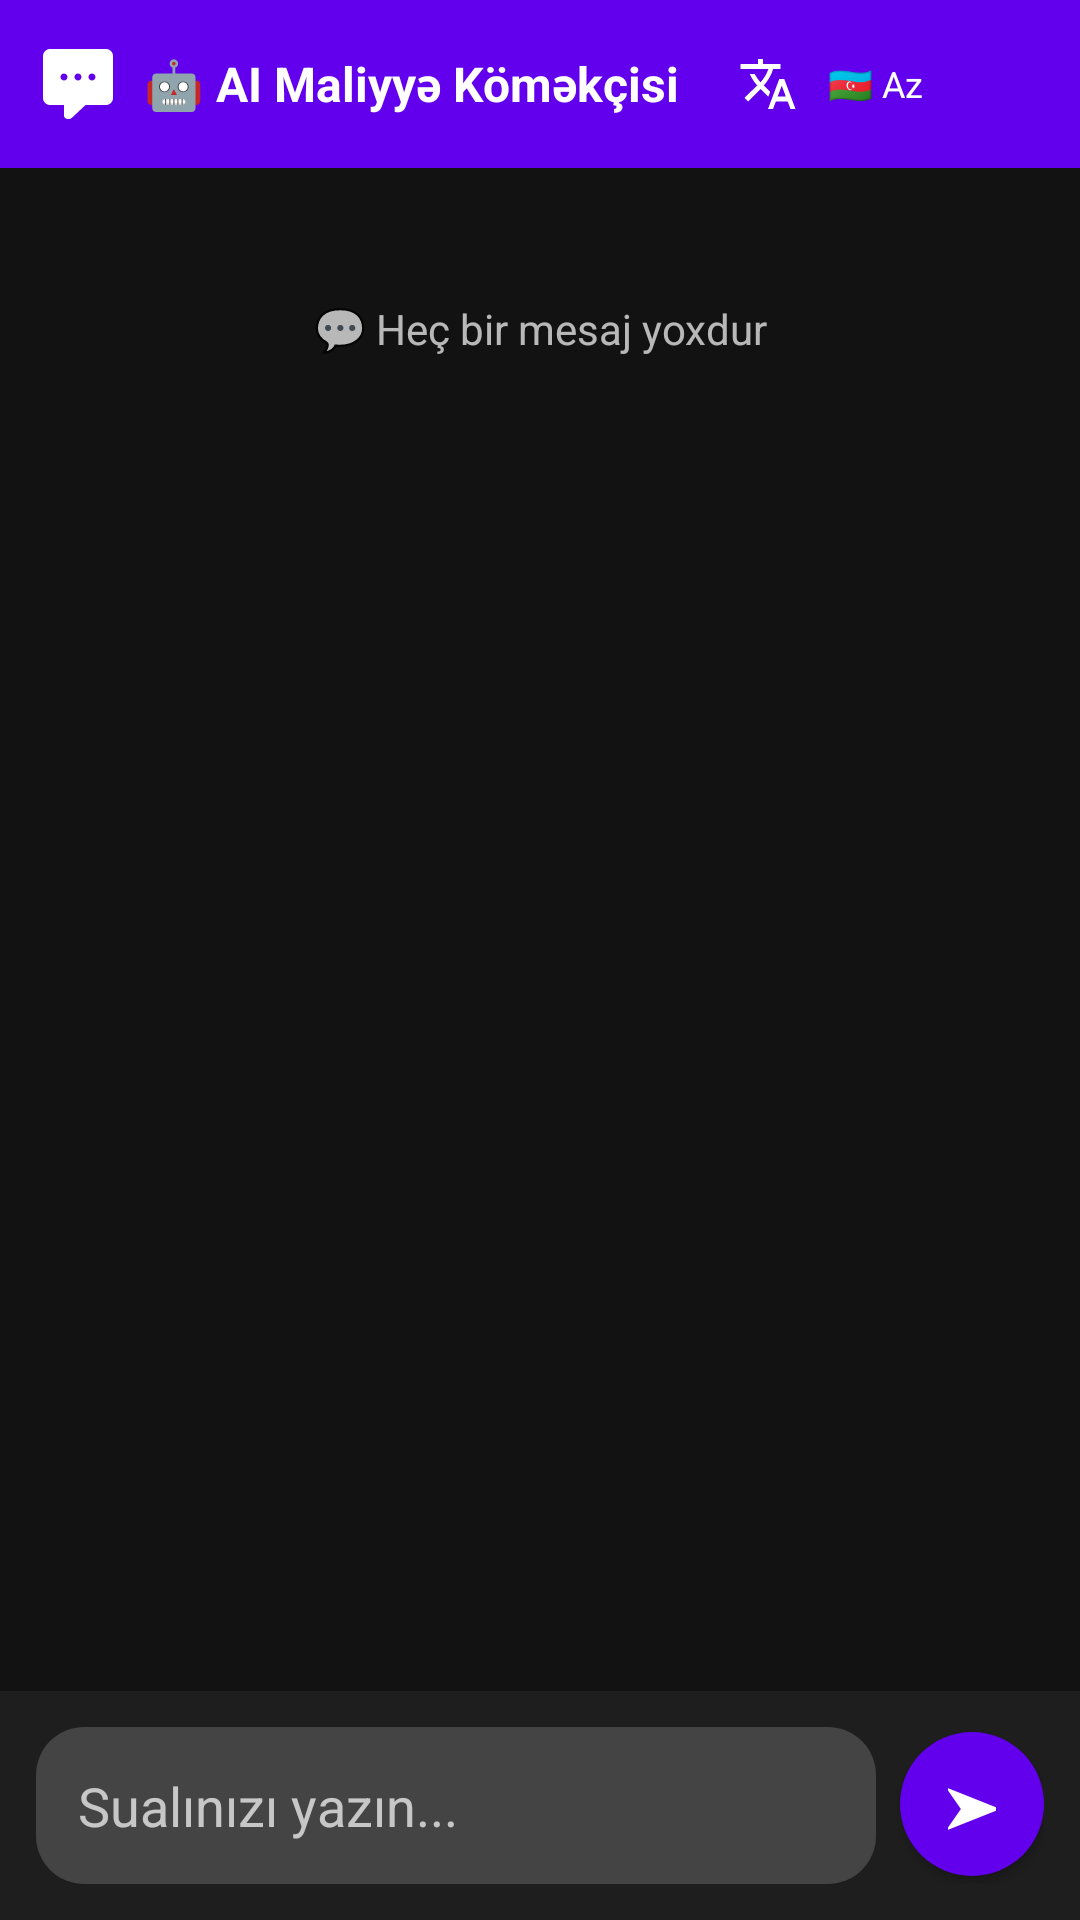

Icons on this 1080*1920 Android screen, each with its box as (x1=x1, y1=y1, x2=x2, y2=y2):
language: (x1=740, y1=59, x2=796, y2=109)
